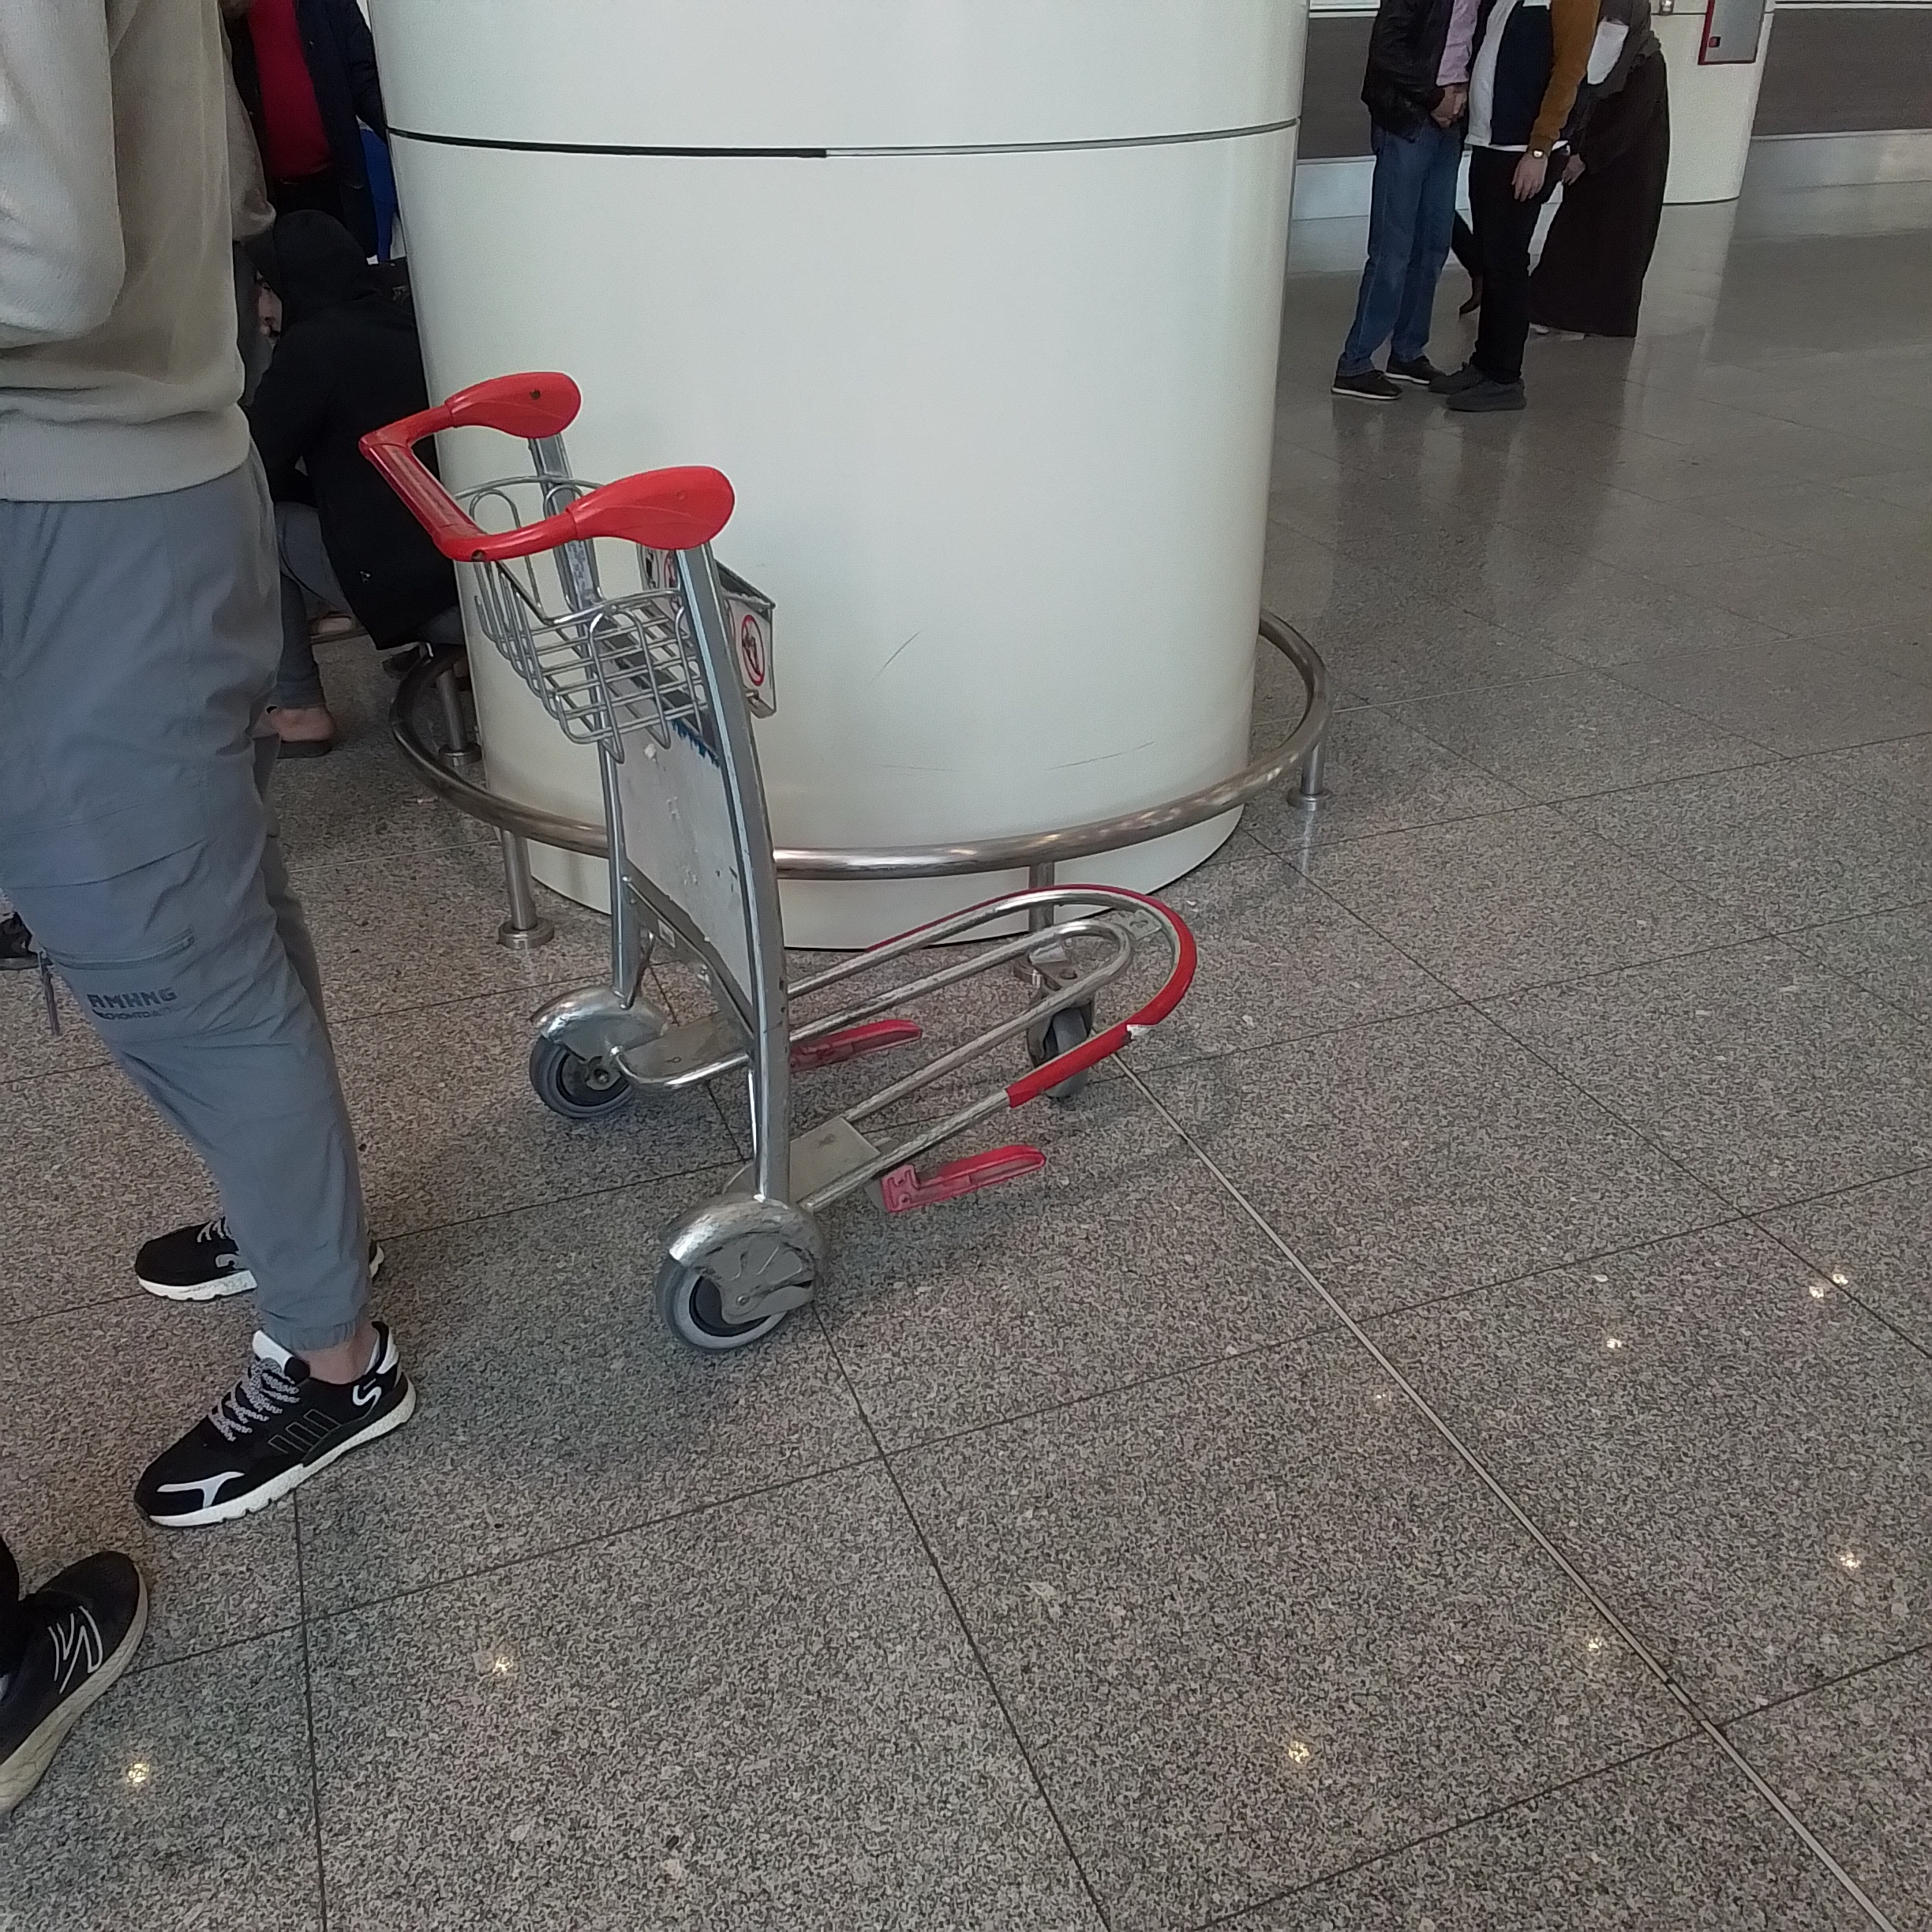airport-trolley: (333, 372, 1201, 1353)
